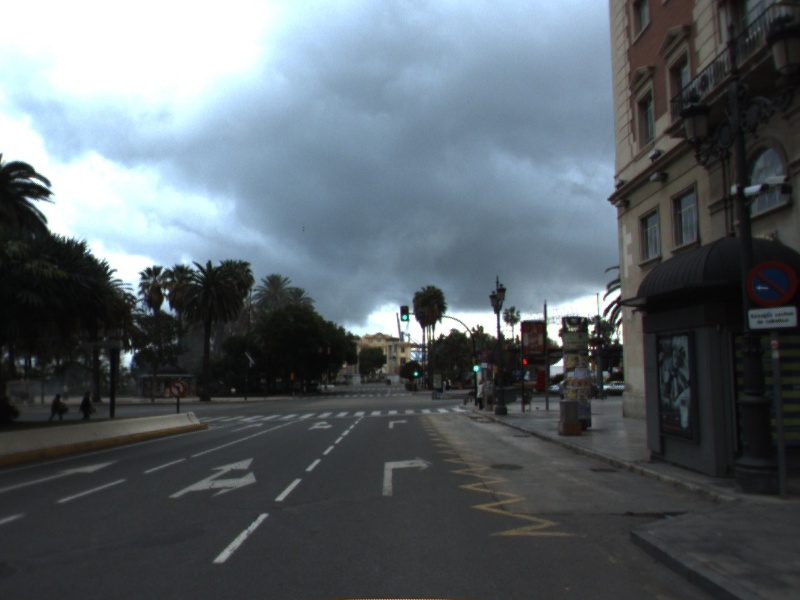RIGHT: (379, 453, 436, 498), (386, 417, 411, 431)
STRAIGHT: (1, 457, 123, 494), (228, 421, 266, 434)
STRAIGHT_RIGHT: (166, 455, 260, 500), (305, 419, 335, 432)
